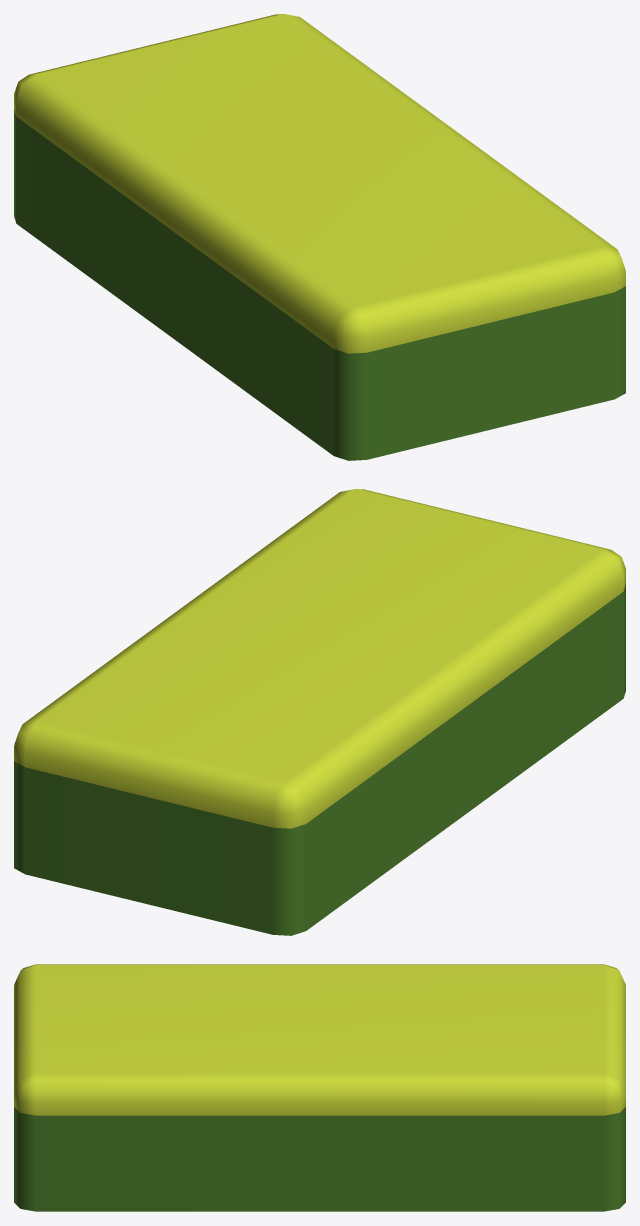
File: _ase_01.fbx
3 views of the same model, one above another, from view 1: azimuth 30°, elevation 25°; view 2: azimuth 150°, elevation 25°; view 3: azimuth 270°, elevation 25° (orthographic). The views are drawn at different scales.
Parts seen in each view (by area): view 1: base_01; view 2: base_01; view 3: base_01.
Boxes of the visible parts, box(x1,y1,x2,y2) form: base_01: box(14, 14, 625, 460); base_01: box(14, 489, 625, 935); base_01: box(14, 964, 625, 1211).
Size of the model in its own units: 783 by 372 by 1600.
